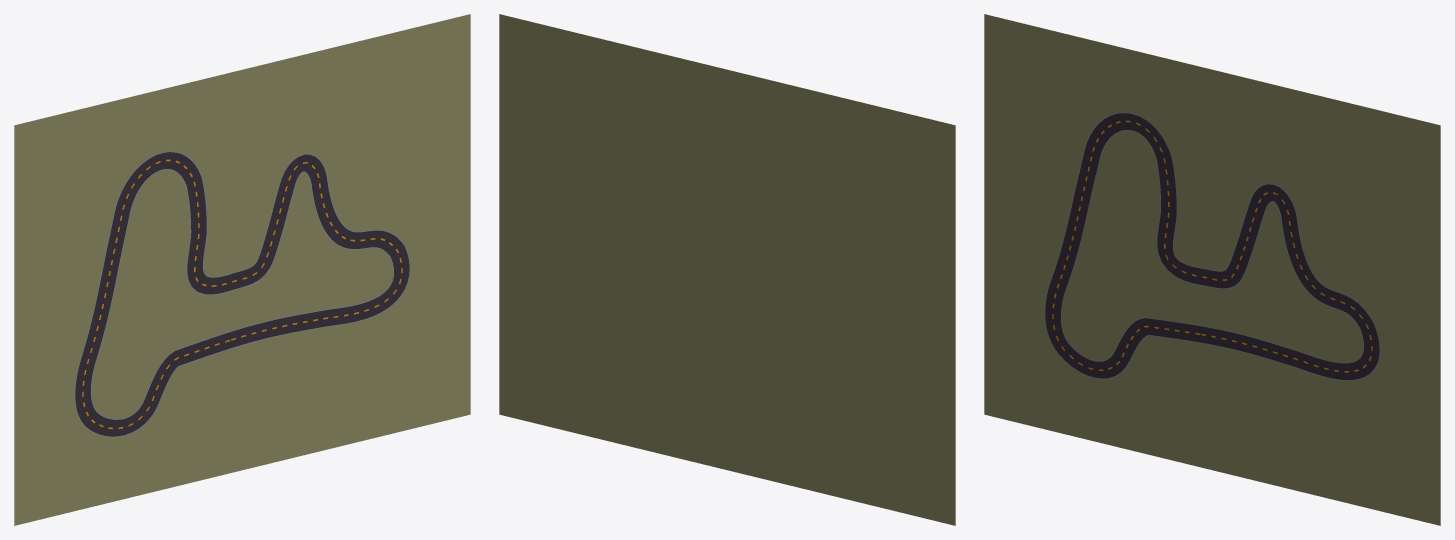
The model's file is track.obj.
3 views of the same model, side by side, from view 1: azimuth 30°, elevation 25°; view 2: azimuth 150°, elevation 25°; view 3: azimuth 330°, elevation 25° (orthographic).
Size of the model in its own units: 28.92 by 24.25 by 0.0025.
